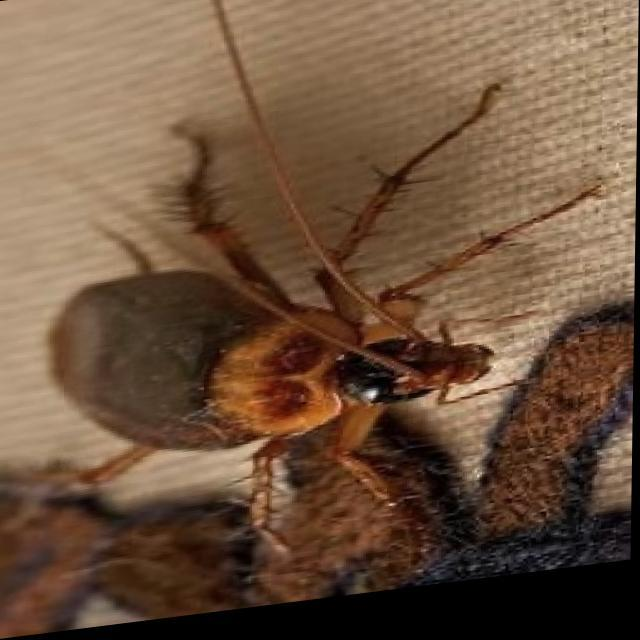cockroach: (46, 209, 570, 527)
